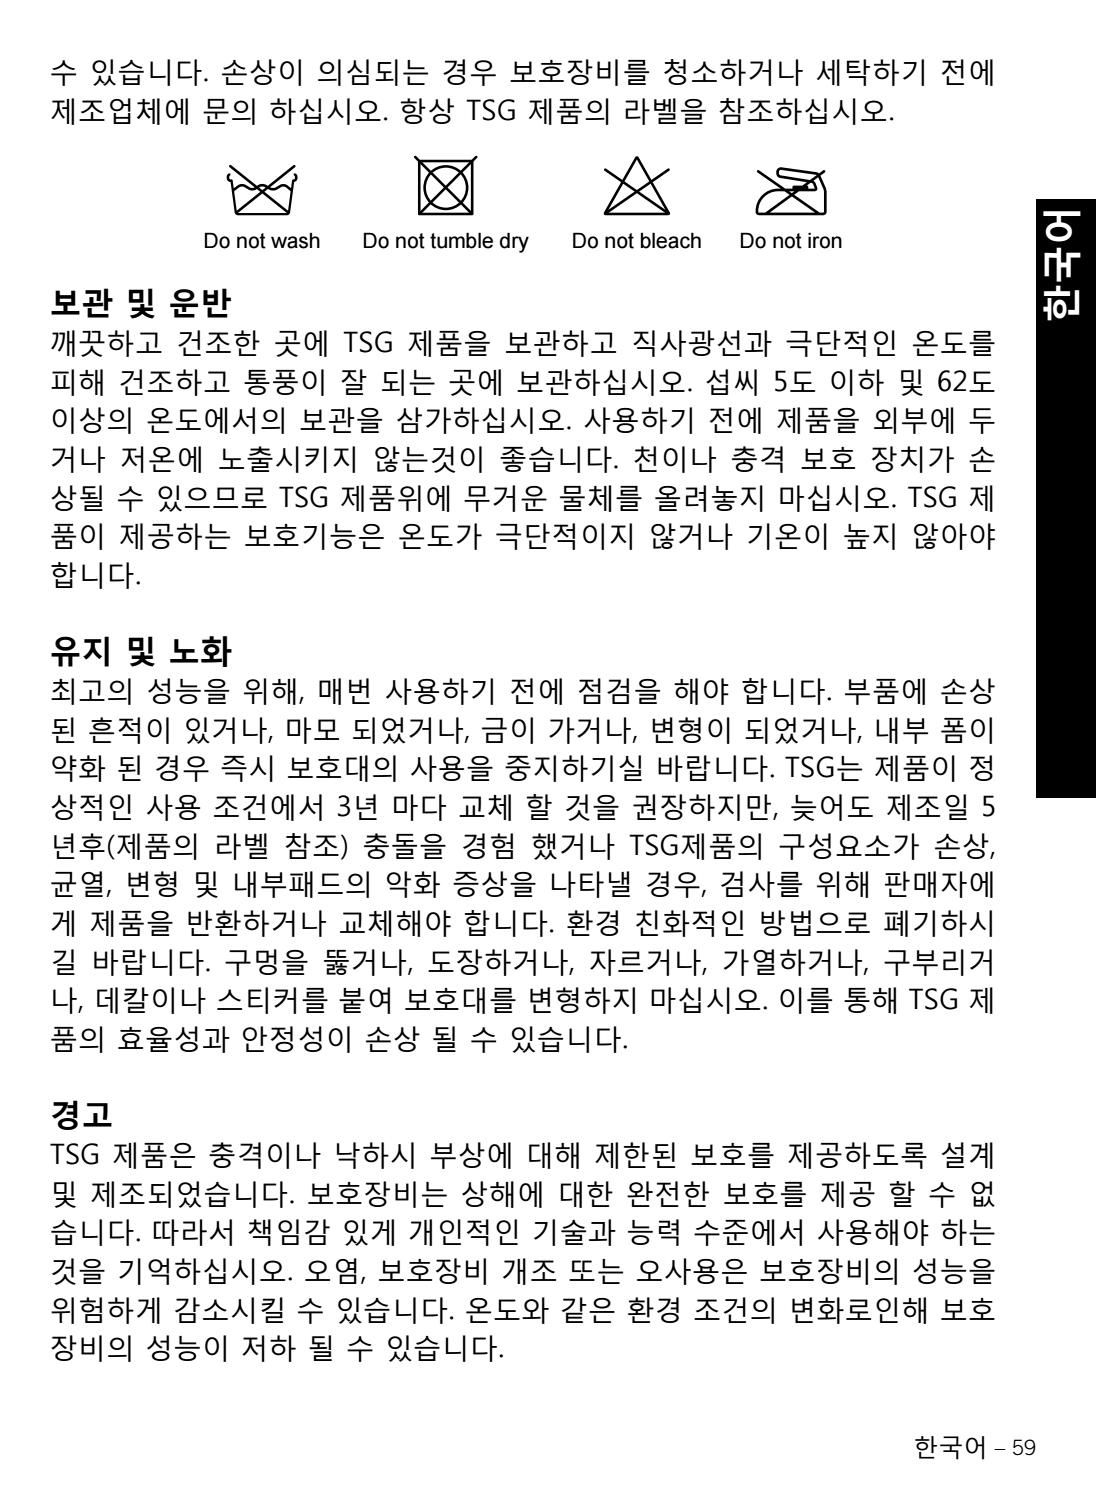do_not_bleach: (600, 149, 671, 219)
do_not_iron: (753, 162, 828, 219)
do_not_wash: (224, 157, 300, 219)
